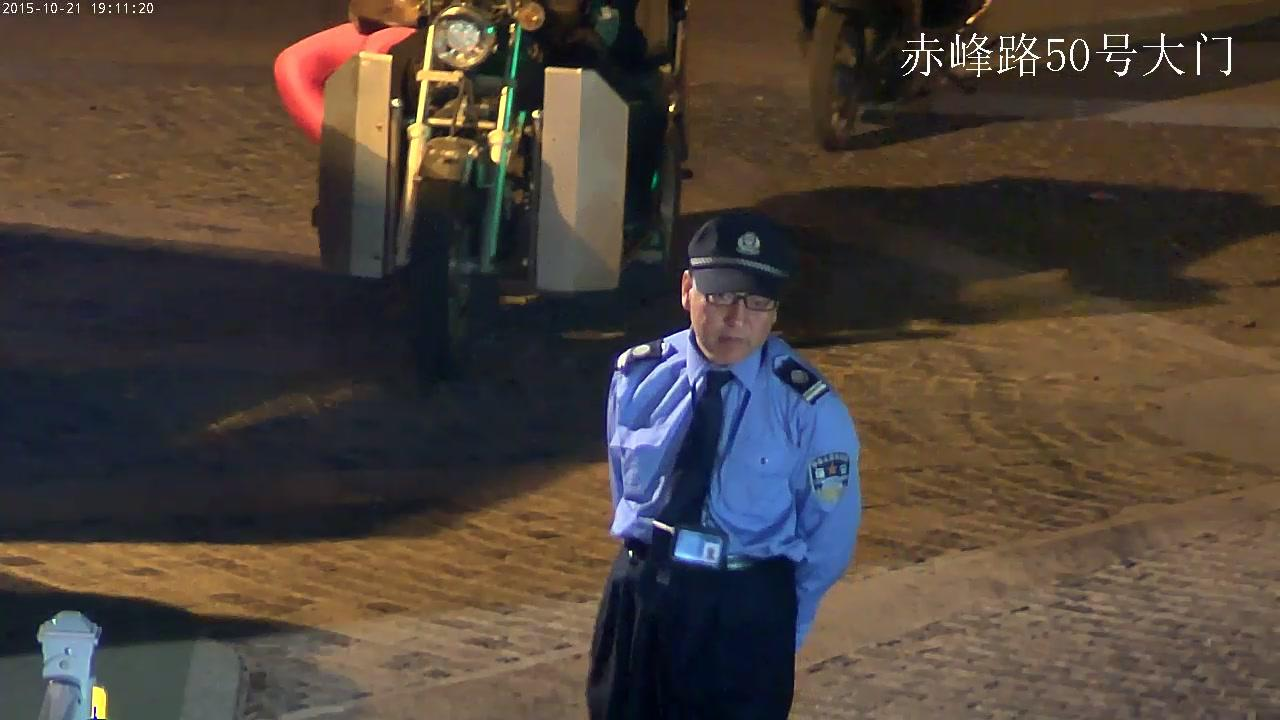face: (690, 275, 774, 360)
